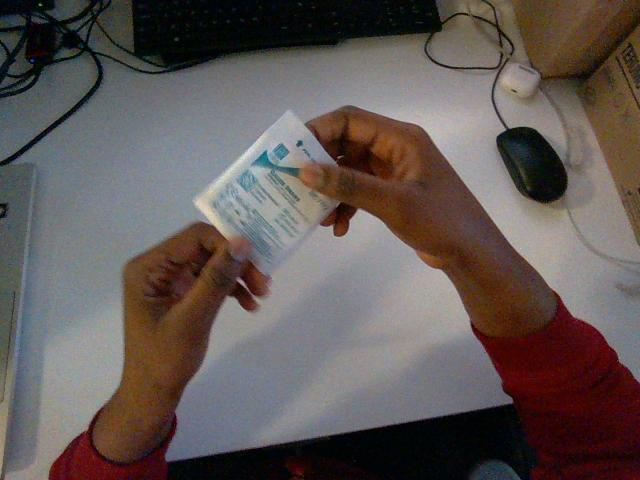gauze: (194, 111, 337, 273)
